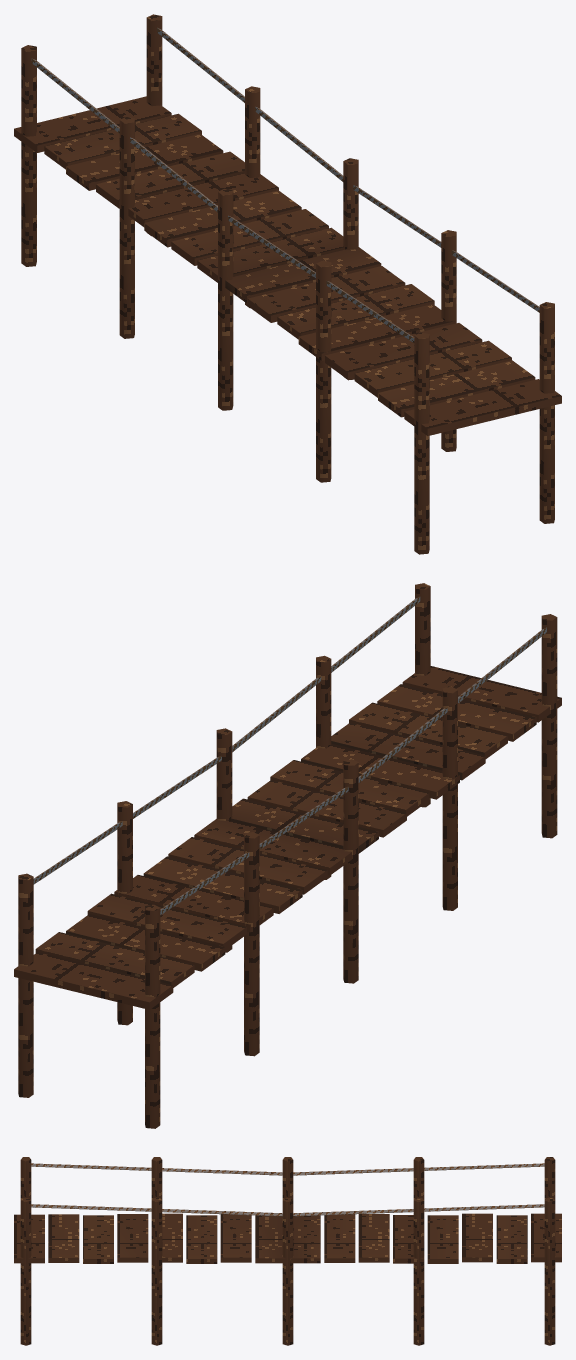
The model's file is lake.bridge__planks.glb.
The picture shows the model from 3 angles, top to bottom: view 1: azimuth 30°, elevation 25°; view 2: azimuth 150°, elevation 25°; view 3: azimuth 270°, elevation 25°; orthographic projection. The views are drawn at different scales.
Parts seen in each view (by area): view 1: kit_deck, kit_piles, kit_rails; view 2: kit_deck, kit_piles, kit_rails; view 3: kit_deck, kit_piles, kit_rails.
Part boxes in pixels (x1=…): kit_deck: x1=14, y1=96, x2=561, y2=435; kit_piles: x1=21, y1=14, x2=554, y2=554; kit_rails: x1=31, y1=28, x2=539, y2=342; kit_deck: x1=14, y1=666, x2=561, y2=1009; kit_piles: x1=18, y1=583, x2=557, y2=1128; kit_rails: x1=33, y1=597, x2=546, y2=915; kit_deck: x1=14, y1=1213, x2=561, y2=1263; kit_piles: x1=20, y1=1157, x2=555, y2=1345; kit_rails: x1=31, y1=1163, x2=544, y2=1216.
Bounding box in the file's own units: 1.55 × 2.3 × 7.95.
Materials: 3 (3 with a texture image).
